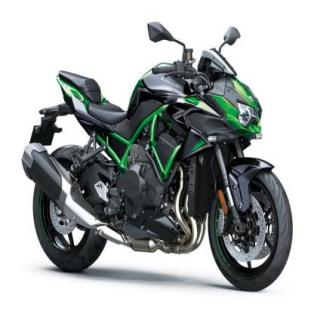Motocicleta: (19, 14, 294, 295)
